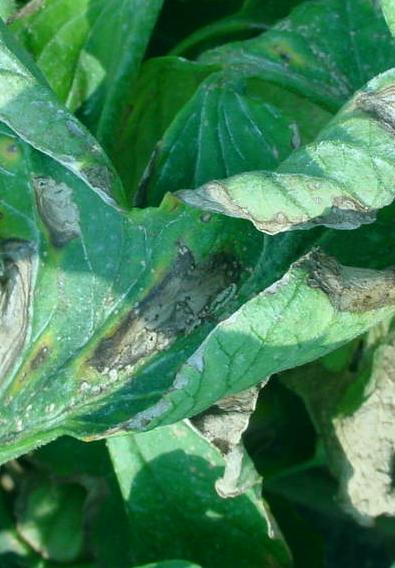Tomato leaf bacterial spot: (0, 0, 395, 541)
